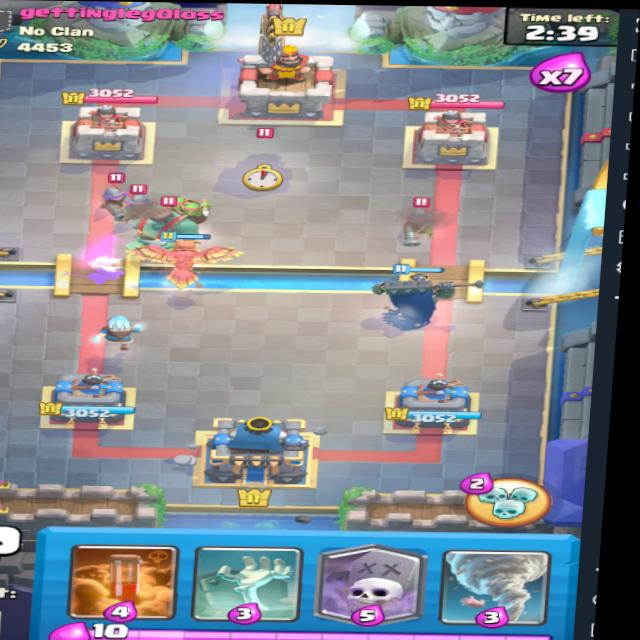goblin-giant: (127, 188, 221, 254)
musketeer: (394, 197, 458, 244), (97, 177, 164, 220), (116, 183, 172, 230)
